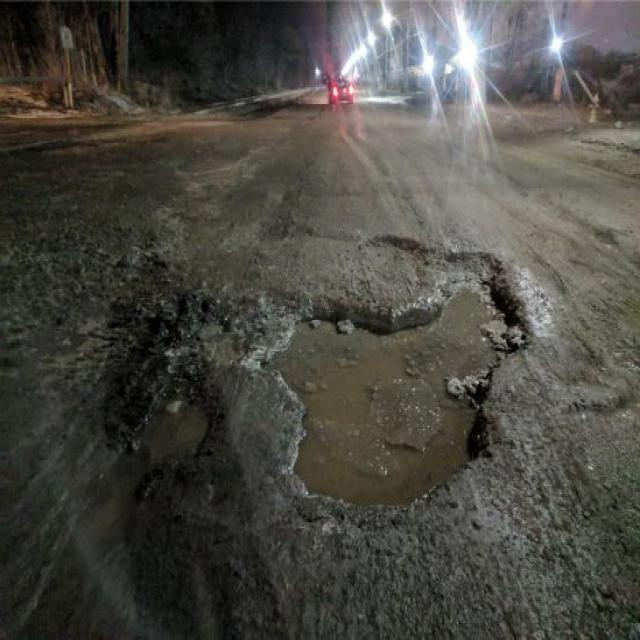pothole: (251, 239, 538, 511)
